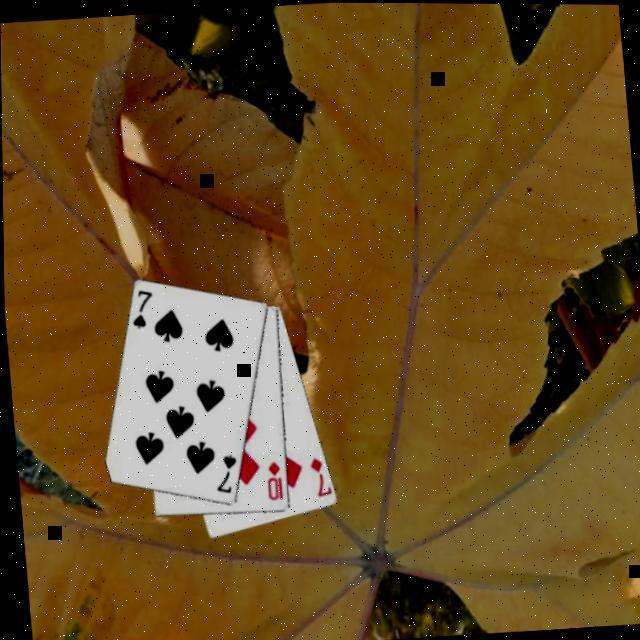10D: (262, 458, 286, 503)
7D: (305, 454, 333, 500)
7S: (210, 451, 242, 497), (127, 286, 159, 332)
